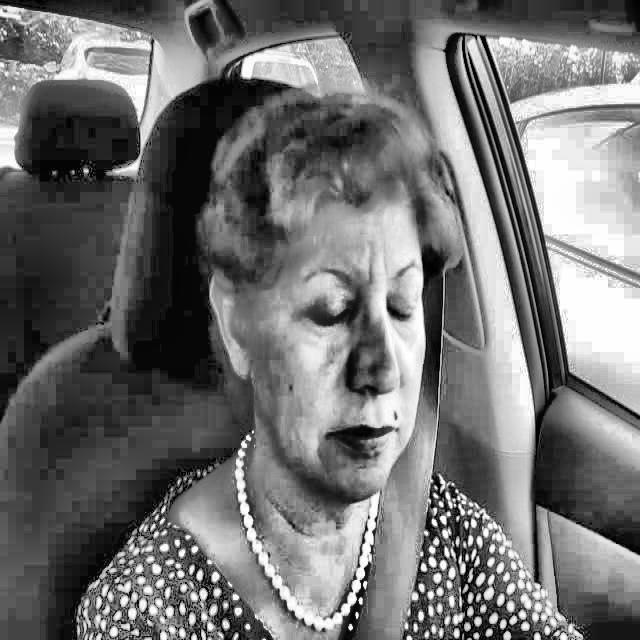closed_eyes: (285, 287, 363, 340), (373, 284, 439, 339)
closed_mouth: (304, 404, 420, 474)
